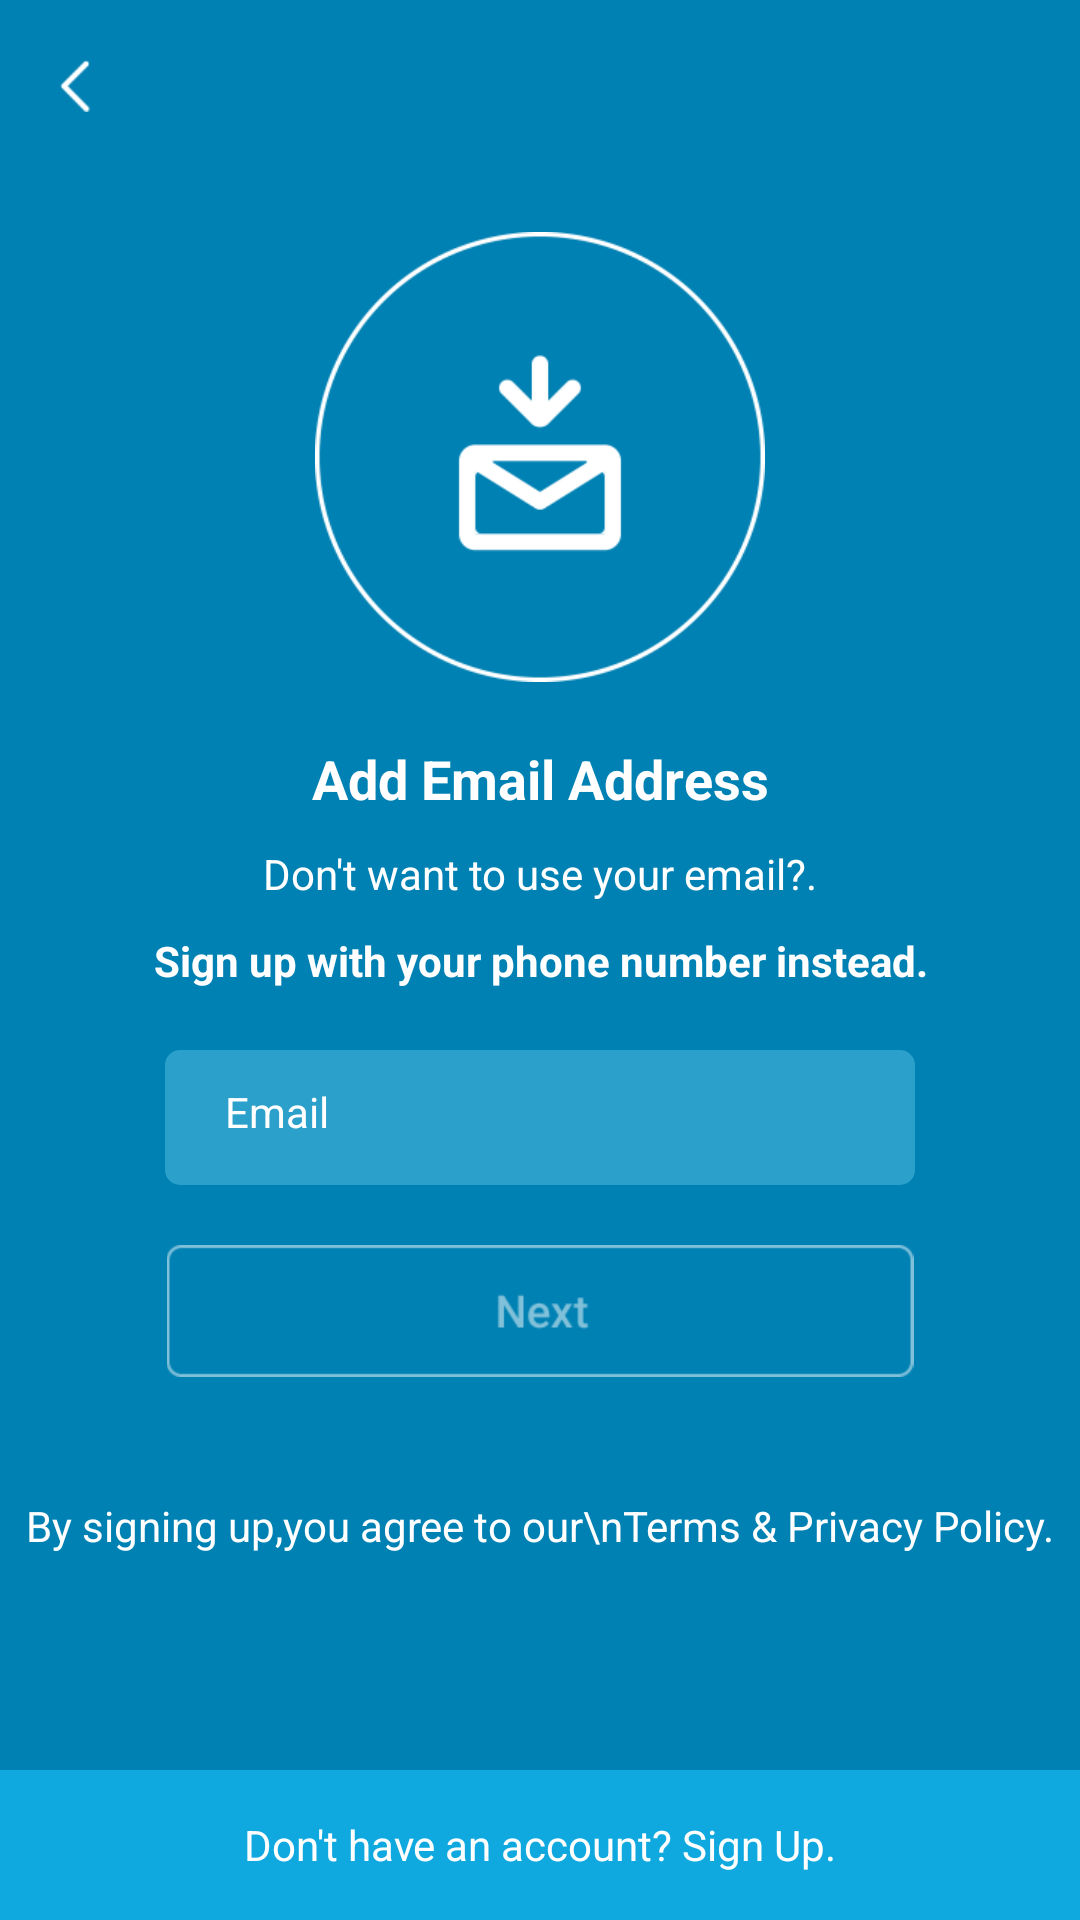

Screen size 1080px x 1920px. Icon name, then its box in pixels as detection(x1, y1, x2, y2):
back: detection(60, 60, 90, 112)
